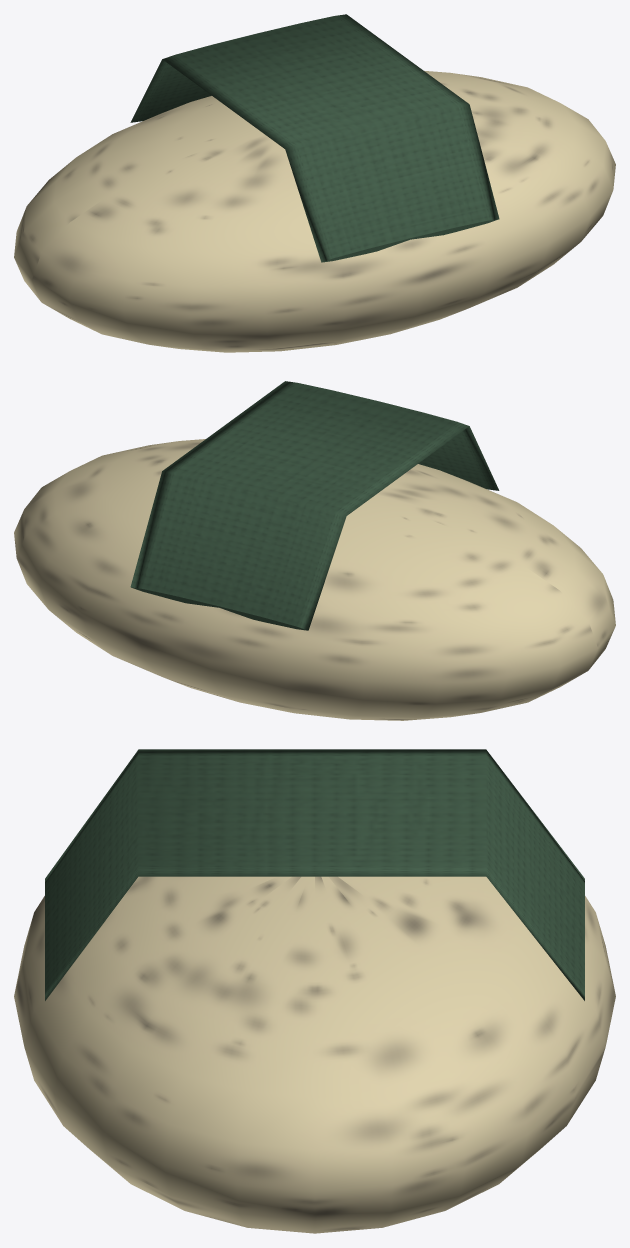
File: LargeSponge.fbx
3 views of the same model, one above another, from view 1: azimuth 30°, elevation 25°; view 2: azimuth 150°, elevation 25°; view 3: azimuth 270°, elevation 25° (orthographic). The views are drawn at different scales.
Parts seen in each view (by area): view 1: LargeSponge_Mesh; view 2: LargeSponge_Mesh; view 3: LargeSponge_Mesh.
Boxes of the visible parts, x1,y1,x2,y2 form: LargeSponge_Mesh: (14,14,615,352); LargeSponge_Mesh: (14,381,615,720); LargeSponge_Mesh: (14,749,615,1233).
Size of the model in its own units: 0.178 by 0.0688 by 0.116.
Materials: 1 (1 with a texture image).
